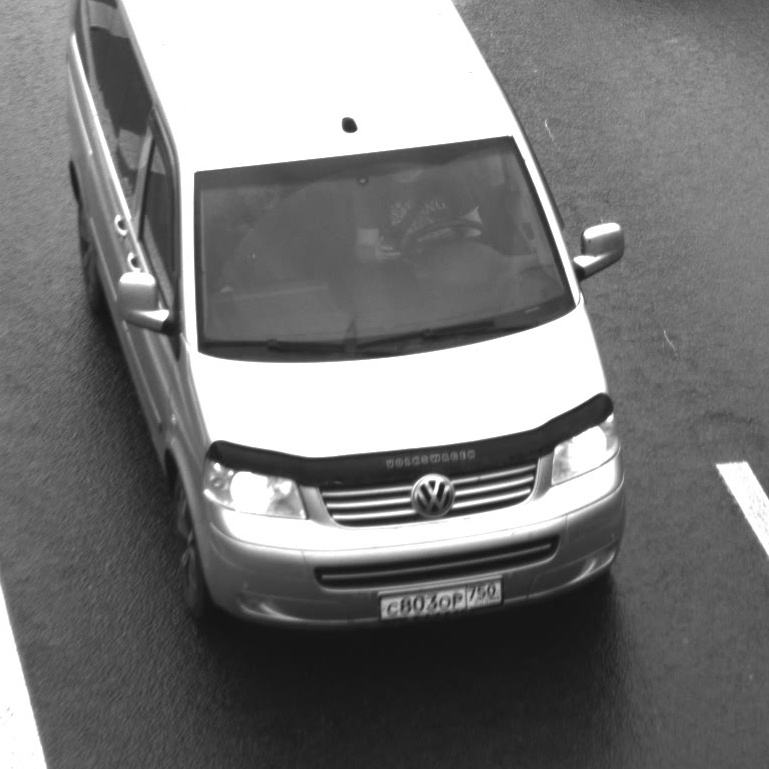plate: (369, 571, 510, 628)
